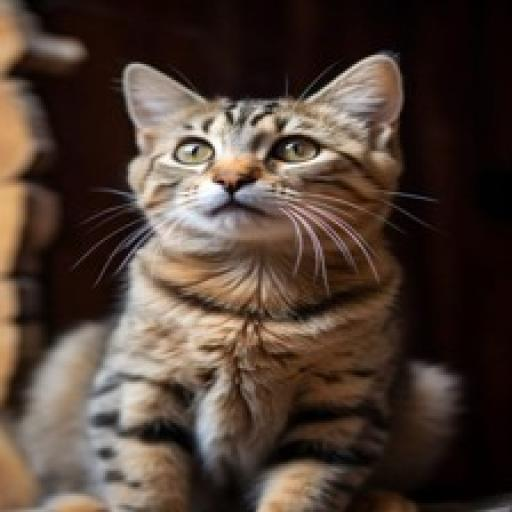cat: (64, 54, 409, 512)
